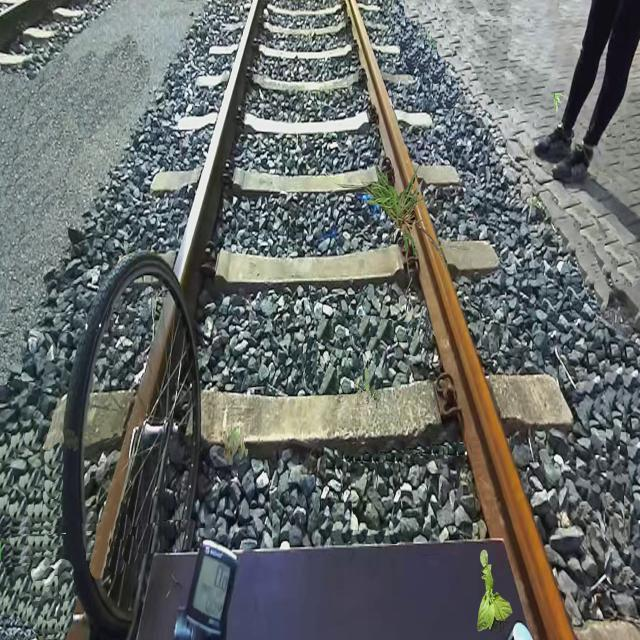Plant: (327, 161, 470, 280), (477, 549, 512, 632), (354, 368, 382, 409), (223, 423, 249, 466), (551, 93, 565, 114)
